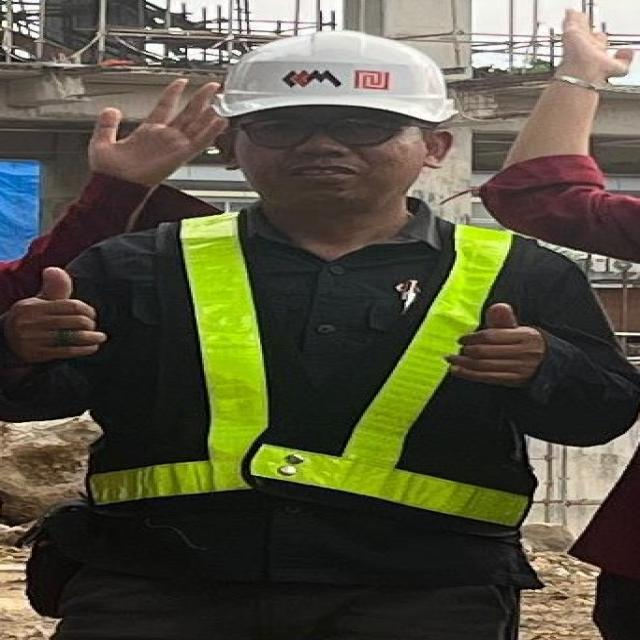safetyhelmet: (207, 25, 468, 177)
